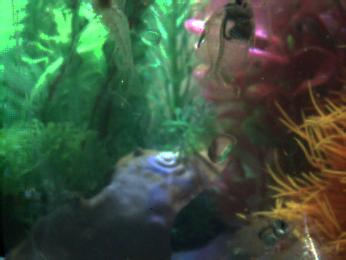X-ray fish: (197, 1, 256, 96), (216, 214, 294, 259)
siberian prawn: (89, 1, 144, 89)
